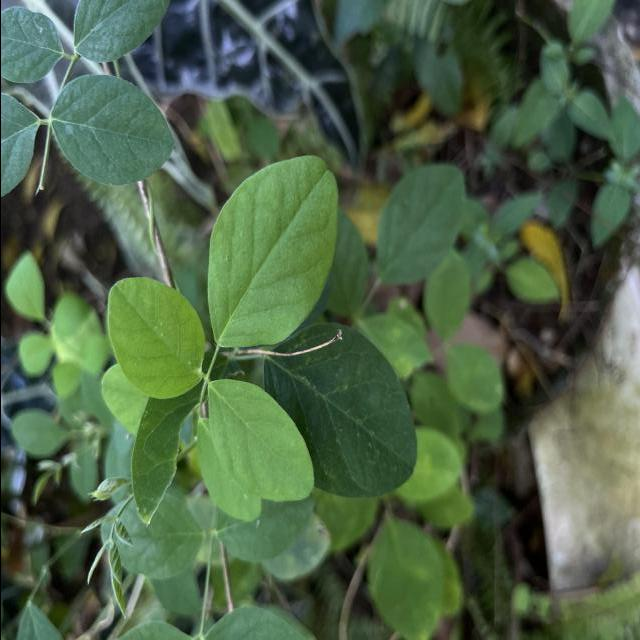Clitoria ternatea: (205, 152, 339, 350), (48, 74, 175, 188), (206, 378, 315, 503), (106, 276, 206, 400)
